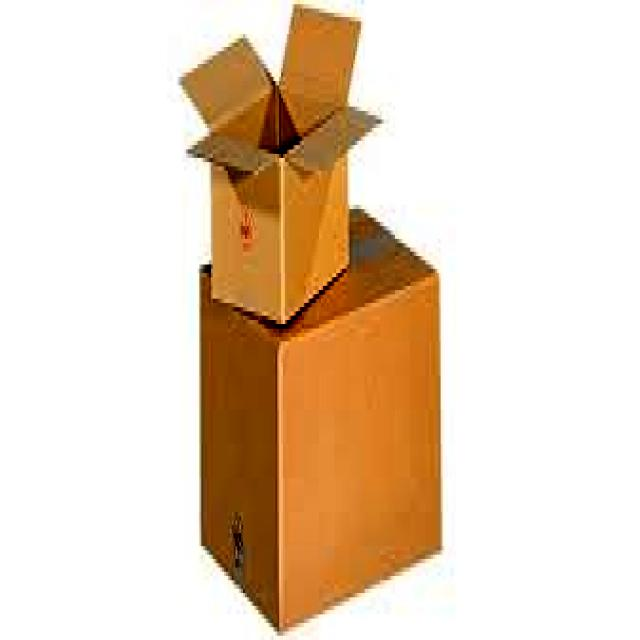Cardboard: (193, 194, 448, 640), (177, 0, 384, 339)
